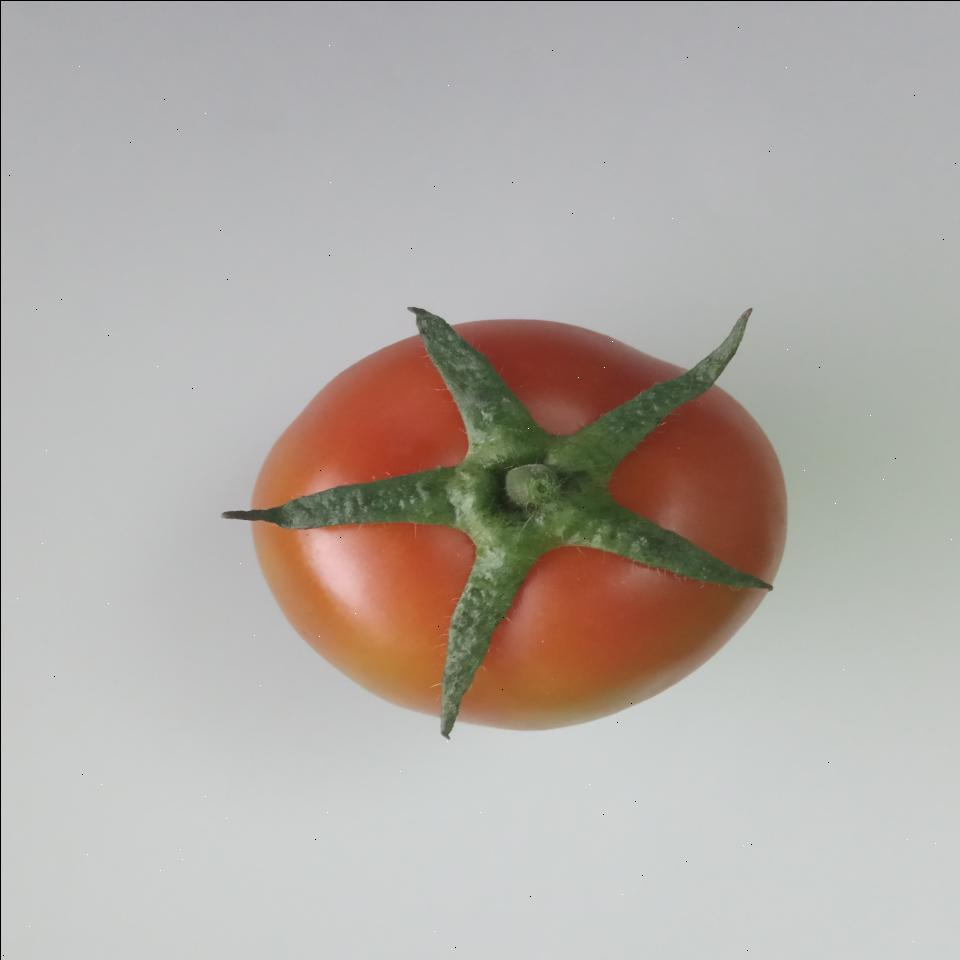Healthy: (240, 306, 788, 736)
